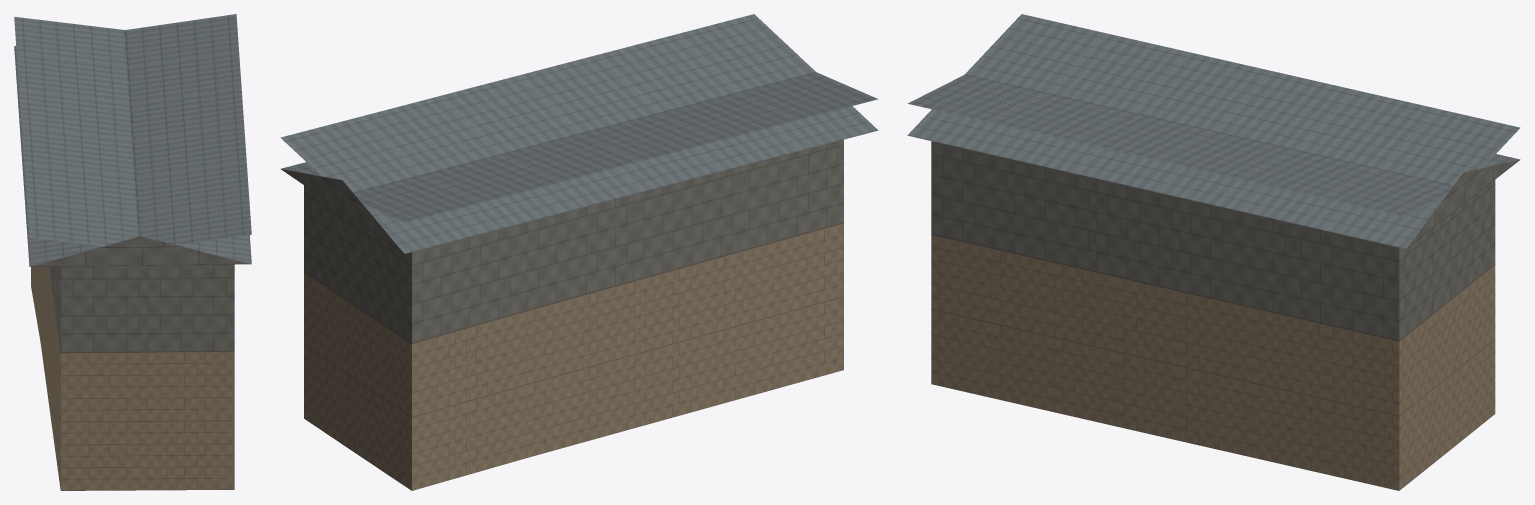
Rendered from bld_c12_41_480.gltf.
3 renders of one model, left to right at view 1: azimuth 30°, elevation 25°; view 2: azimuth 150°, elevation 25°; view 3: azimuth 270°, elevation 25°, orthographic. The views are drawn at different scales.
Parts seen in each view (by area): view 1: bld_c12_41_480; view 2: bld_c12_41_480; view 3: bld_c12_41_480.
Part boxes in pixels (x1,y1,x2,y2): bld_c12_41_480: (14, 14, 251, 490); bld_c12_41_480: (280, 14, 878, 490); bld_c12_41_480: (907, 14, 1520, 490).
Size of the model in its own units: 13.69 by 8.9 by 17.45.
4 materials, 4 textured.
